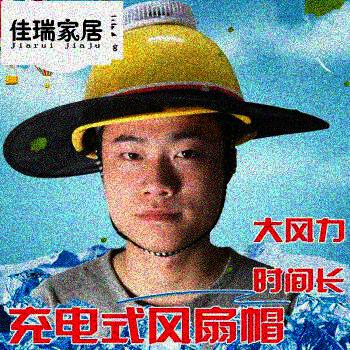helmet: (70, 21, 256, 257)
